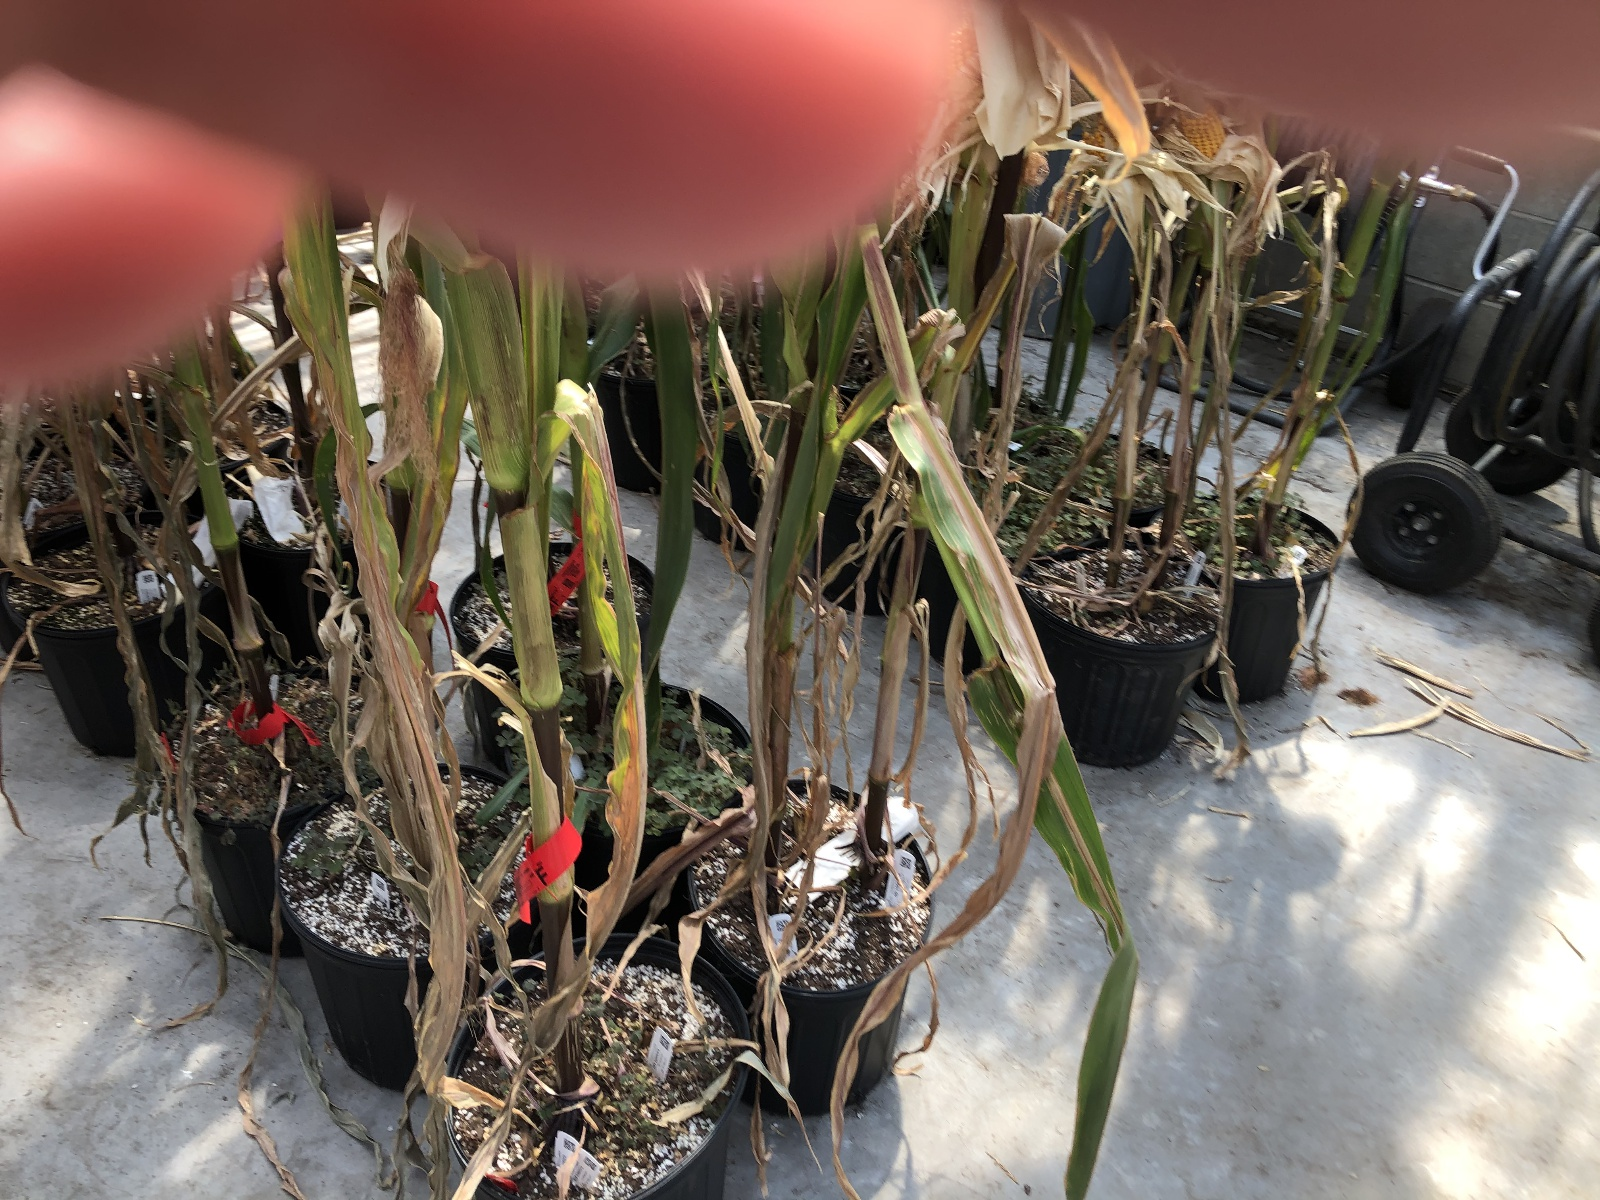ear: (1178, 86, 1235, 166), (1078, 113, 1130, 175)
